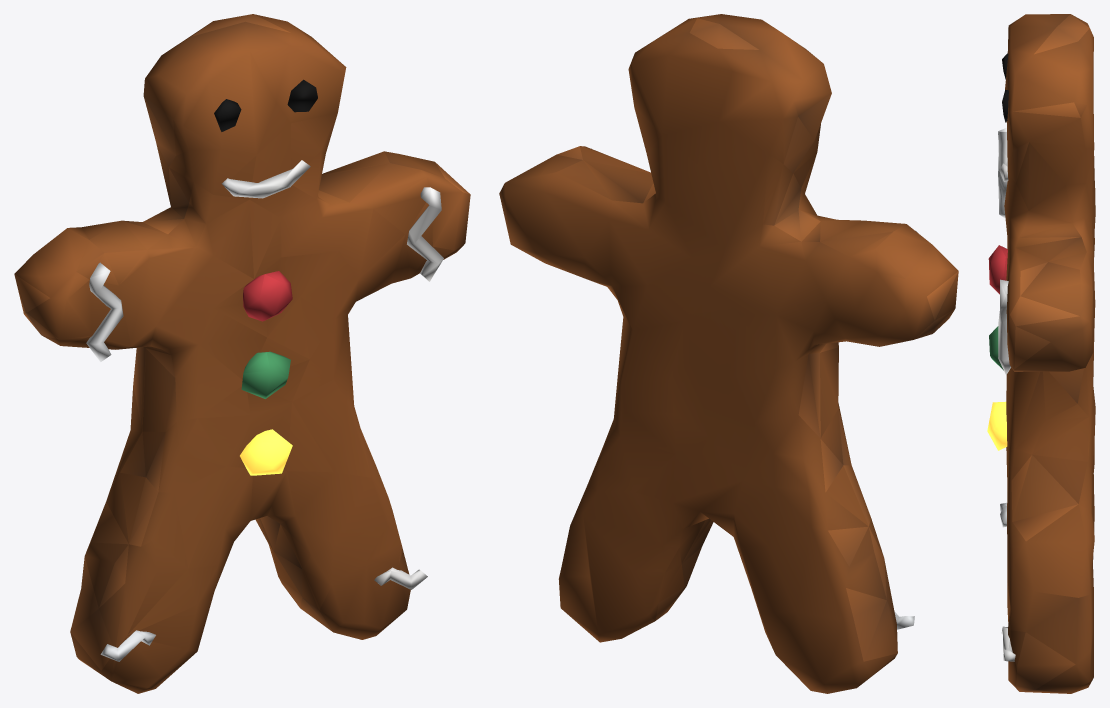
File: frost_gingerbread_man_lod2.glb
3 views of the same model, side by side, from view 1: azimuth 30°, elevation 25°; view 2: azimuth 150°, elevation 25°; view 3: azimuth 270°, elevation 25° (orthographic). The views are drawn at different scales.
Parts seen in each view (by area): view 1: frost_gingerbread_man.001; view 2: frost_gingerbread_man.001; view 3: frost_gingerbread_man.001.
Part boxes in pixels (x1,y1,x2,y2): frost_gingerbread_man.001: [14, 14, 470, 693]; frost_gingerbread_man.001: [499, 14, 958, 693]; frost_gingerbread_man.001: [987, 14, 1095, 693].
Size of the model in its own units: 17.07 by 24.07 by 3.85.
